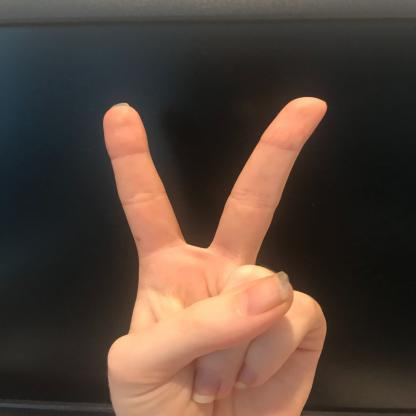V: (100, 94, 330, 416)
